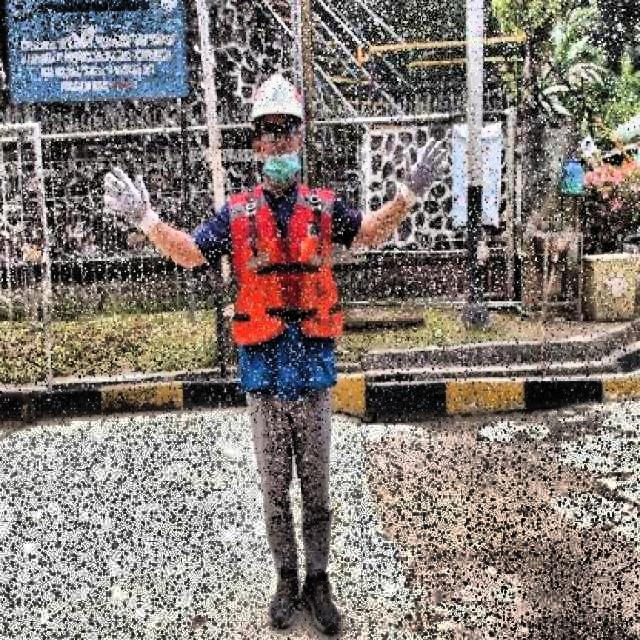safety_helmet: (253, 73, 304, 122)
safety_jacket: (232, 173, 352, 390)
